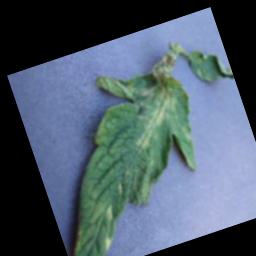Leaf_Mold: (116, 65, 194, 150), (101, 232, 119, 253), (101, 204, 116, 222)
